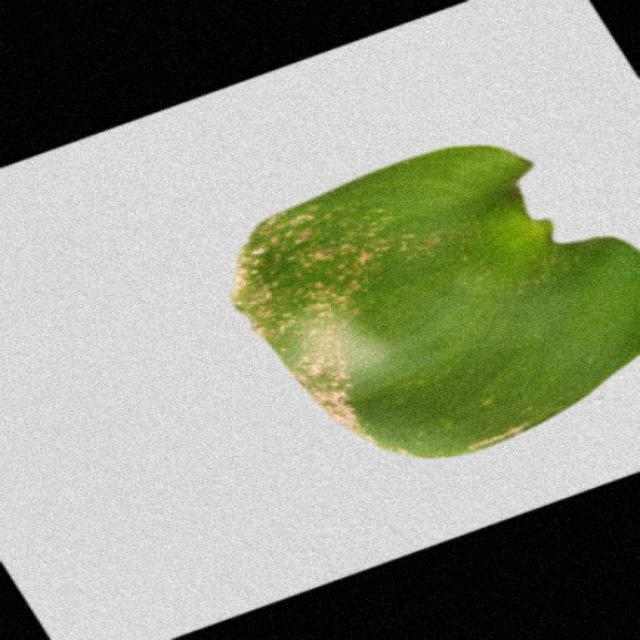daun berpenyakit bercak: (233, 146, 638, 457)
